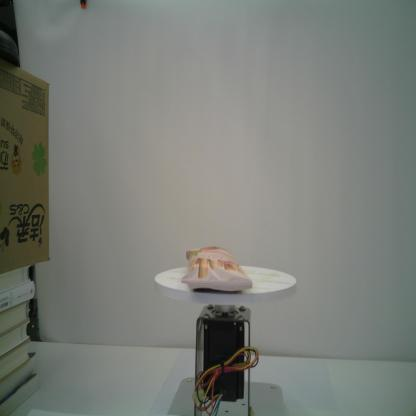Dessert: (178, 242, 254, 296)
